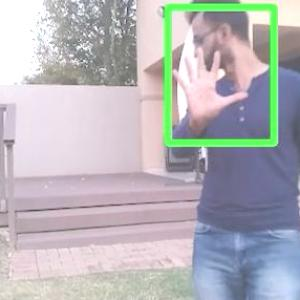follow_hand: (166, 41, 248, 126)
